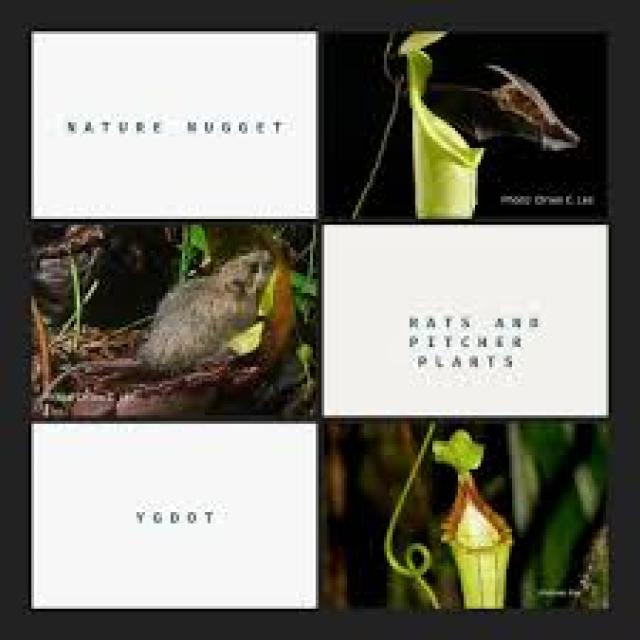rat: (131, 245, 273, 378)
